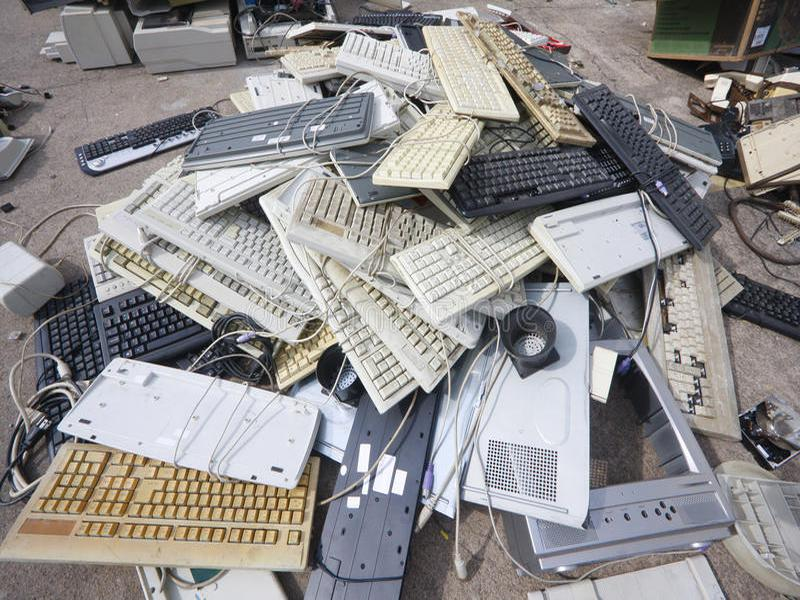keyboard: (258, 175, 467, 414), (6, 445, 318, 572), (77, 184, 324, 338), (572, 84, 724, 251), (643, 242, 753, 444), (460, 8, 599, 150), (393, 210, 550, 324), (447, 144, 637, 220), (21, 272, 104, 445), (64, 105, 224, 178), (367, 100, 487, 193), (420, 22, 528, 125), (721, 272, 800, 346), (334, 29, 433, 85)
